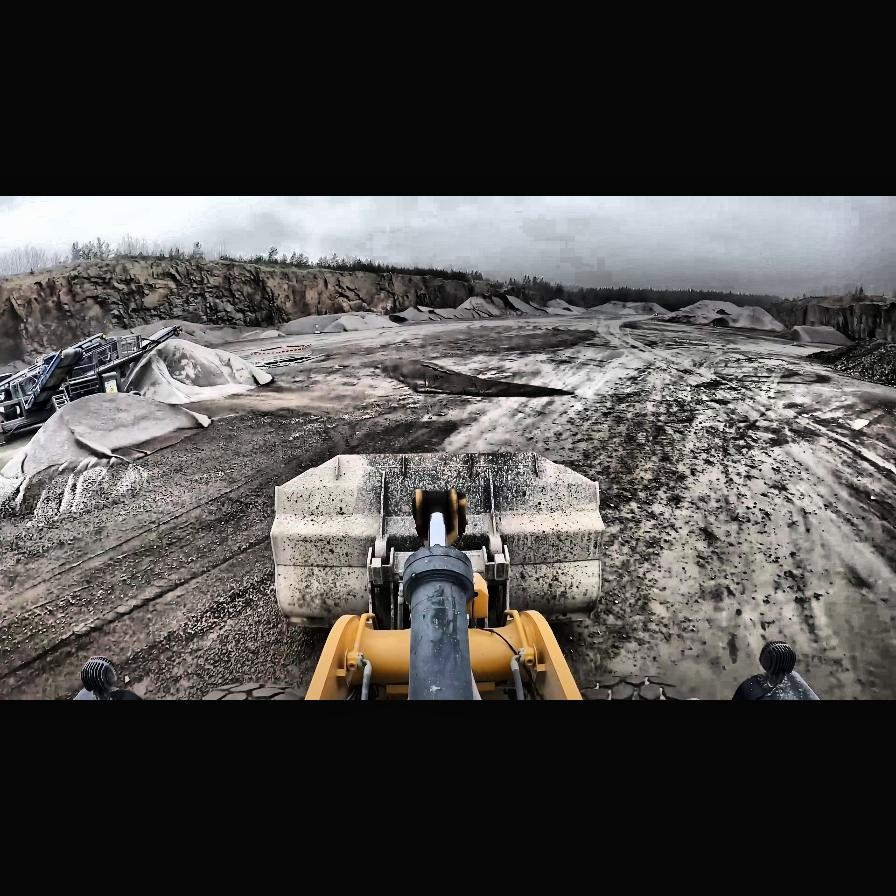anchor: (414, 488, 464, 544)
pile of gravel: (3, 390, 213, 476), (121, 337, 269, 402), (298, 294, 556, 330), (8, 461, 148, 518), (800, 323, 896, 389), (662, 301, 786, 331), (131, 318, 261, 346), (772, 324, 854, 342), (322, 314, 390, 332), (588, 301, 672, 315), (802, 344, 852, 364)
